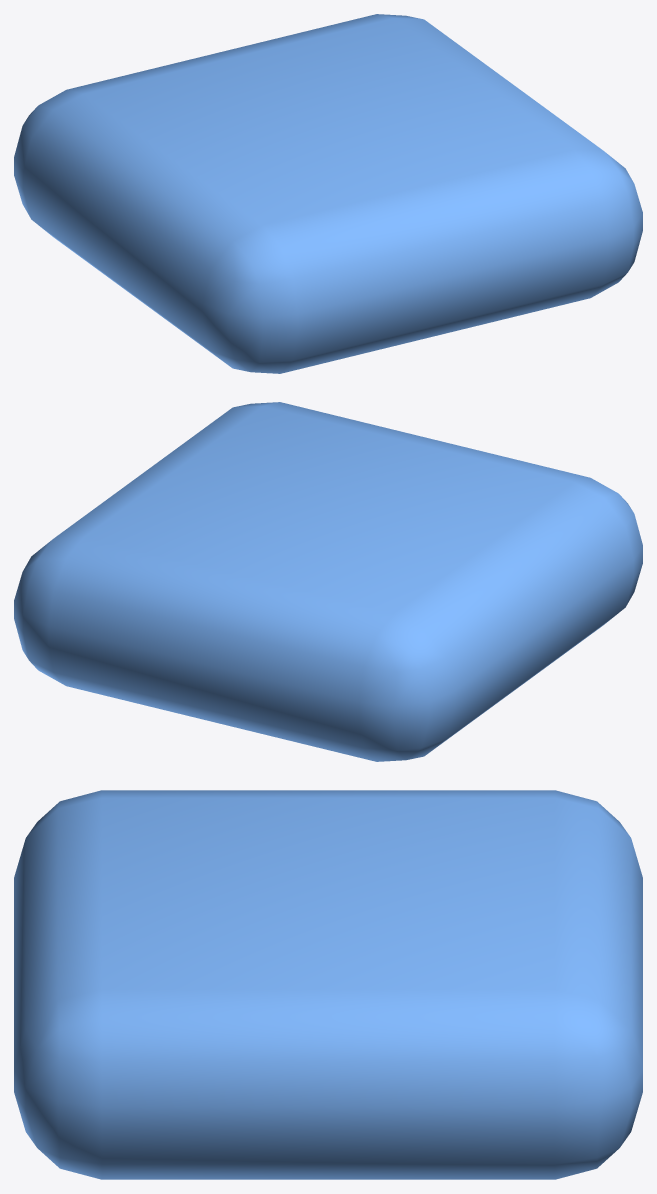
The model's file is pillow.glb.
The picture shows the model from 3 angles, top to bottom: view 1: azimuth 30°, elevation 25°; view 2: azimuth 150°, elevation 25°; view 3: azimuth 270°, elevation 25°; orthographic projection. The views are drawn at different scales.
Visible parts, largest first — view 1: pillow; view 2: pillow; view 3: pillow.
Part boxes in pixels (left/top/right/bottom): pillow: left=14, top=14, right=642, bottom=373; pillow: left=14, top=402, right=642, bottom=761; pillow: left=14, top=790, right=642, bottom=1179.
Size of the model in its own units: 0.5 by 0.16 by 0.5.
